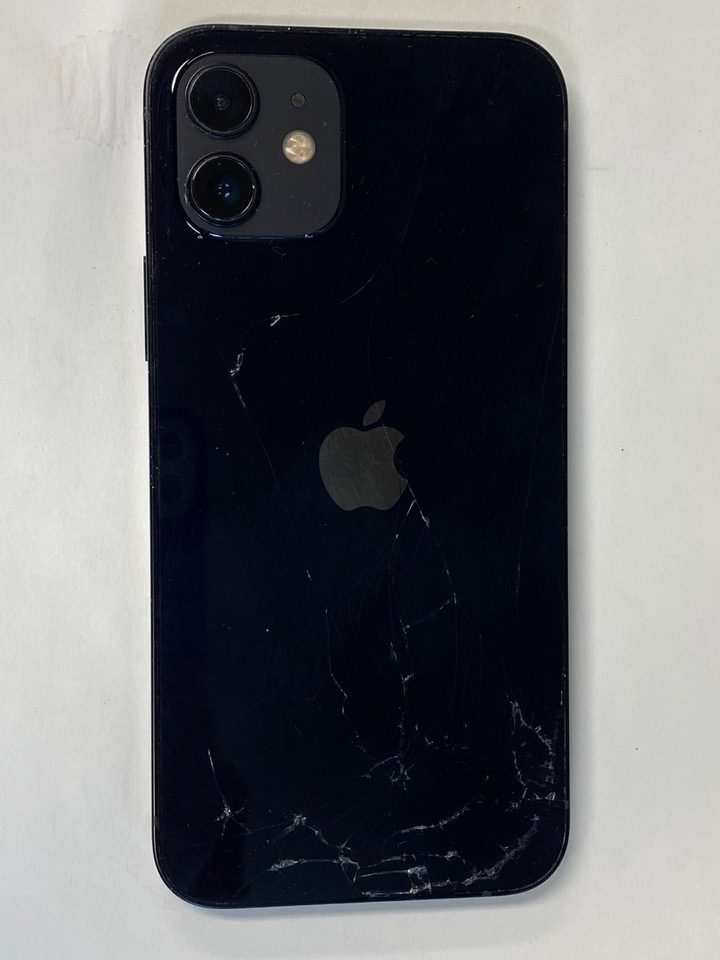crack_phone: (14, 176, 697, 793)
